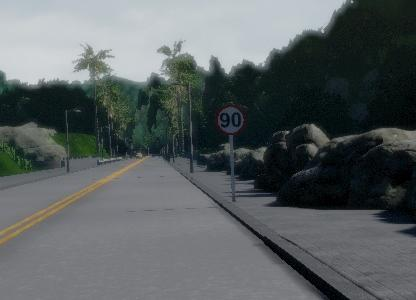Speed_90: (212, 102, 248, 138)
